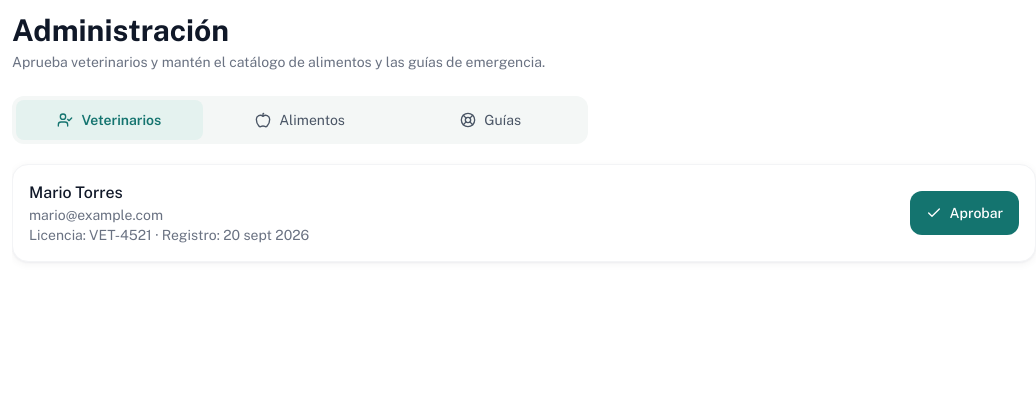
it: AdminPanelPage › approves a veterinarian and removes it from the pending list
This screenshot has width=1036, height=410.
Click the button with aria-label "Aprobar a Mario Torres". click: (964, 213)
box: top-left (910, 191), bottom-right (1019, 235)
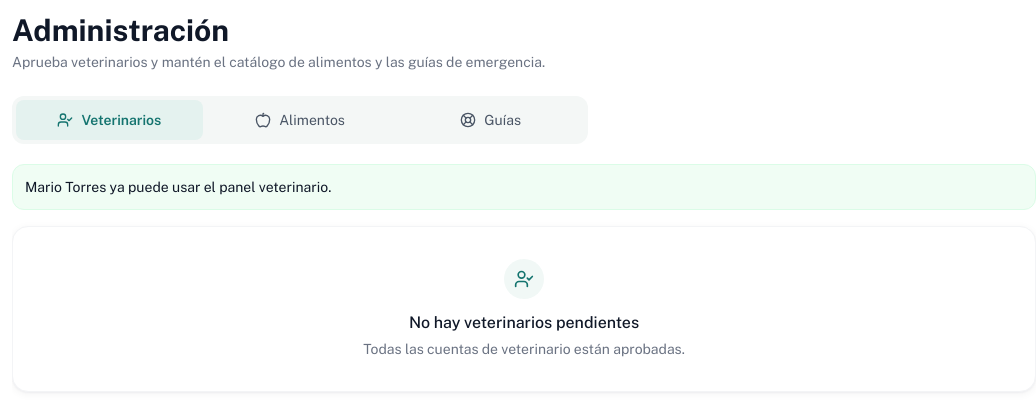
Check: the text "No hay veterinarios pendientes" is shown, box top-left (409, 313), bottom-right (639, 332)
Check: the text "Mario Torres ya puede usar el panel veterinario." is shown, box top-left (12, 164), bottom-right (1035, 210)
